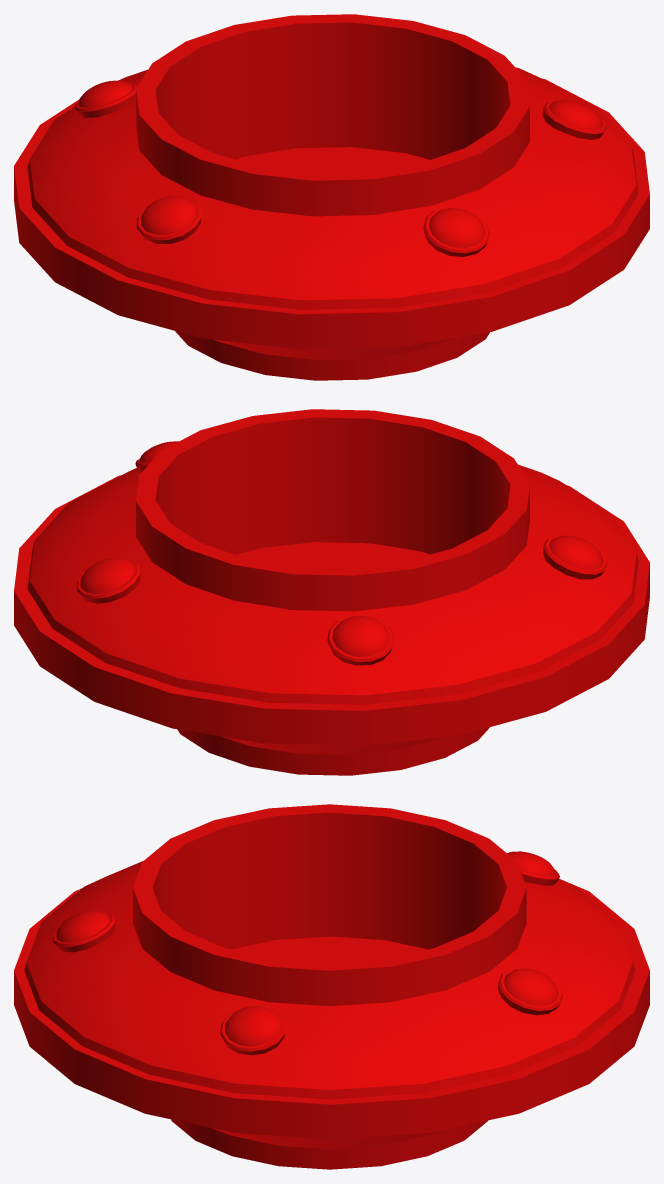
Rendered from BM_UFO.fbx.
The picture shows the model from 3 angles, top to bottom: view 1: azimuth 30°, elevation 25°; view 2: azimuth 150°, elevation 25°; view 3: azimuth 270°, elevation 25°; orthographic projection.
Parts seen in each view (by area): view 1: BM_UFO_001; view 2: BM_UFO_001; view 3: BM_UFO_001.
Boxes of the visible parts, x1=… form: BM_UFO_001: x1=14, y1=14, x2=649, y2=380; BM_UFO_001: x1=14, y1=409, x2=649, y2=775; BM_UFO_001: x1=14, y1=804, x2=649, y2=1169.
Size of the model in its own units: 183 by 67.44 by 183.
